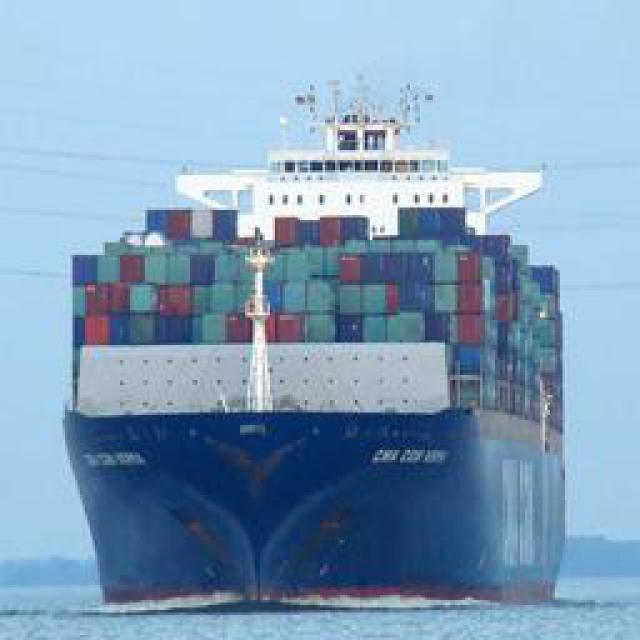Ship: (58, 39, 583, 624)
